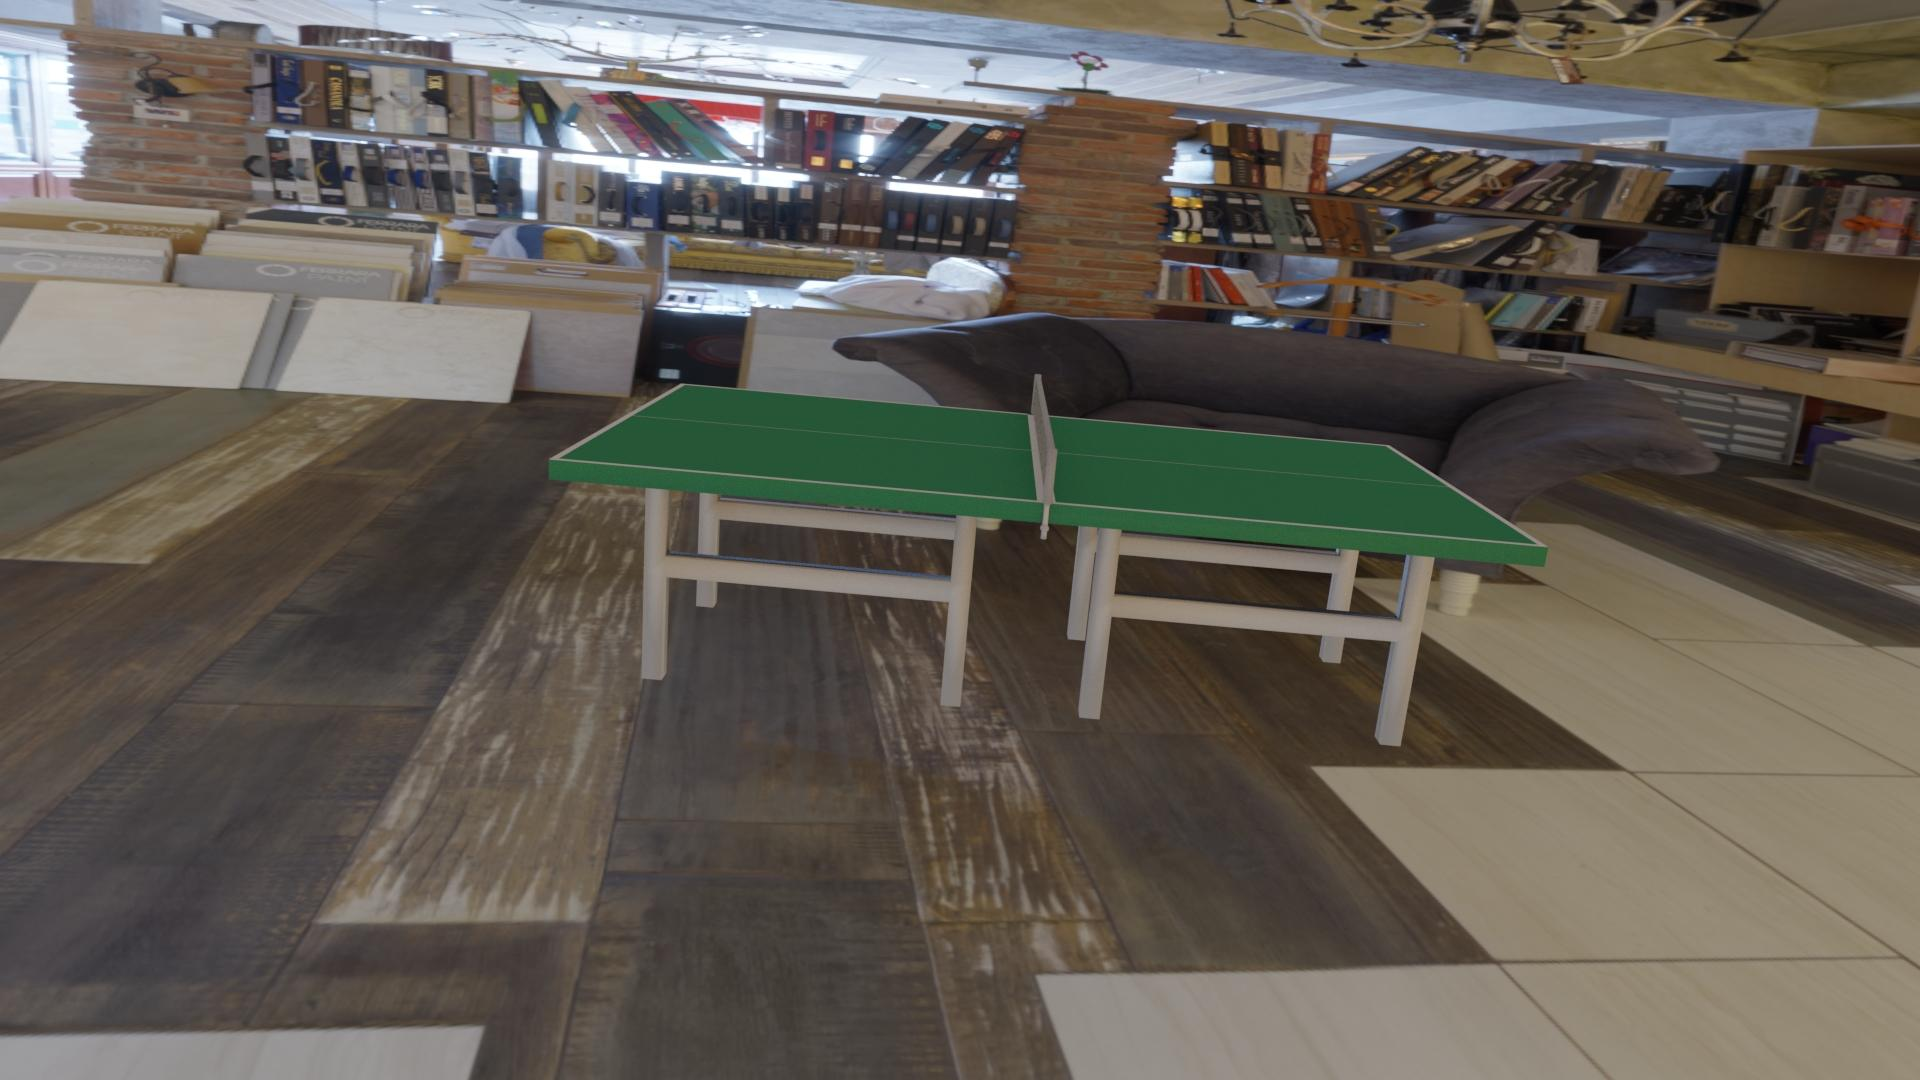table: (558, 385, 1538, 545)
